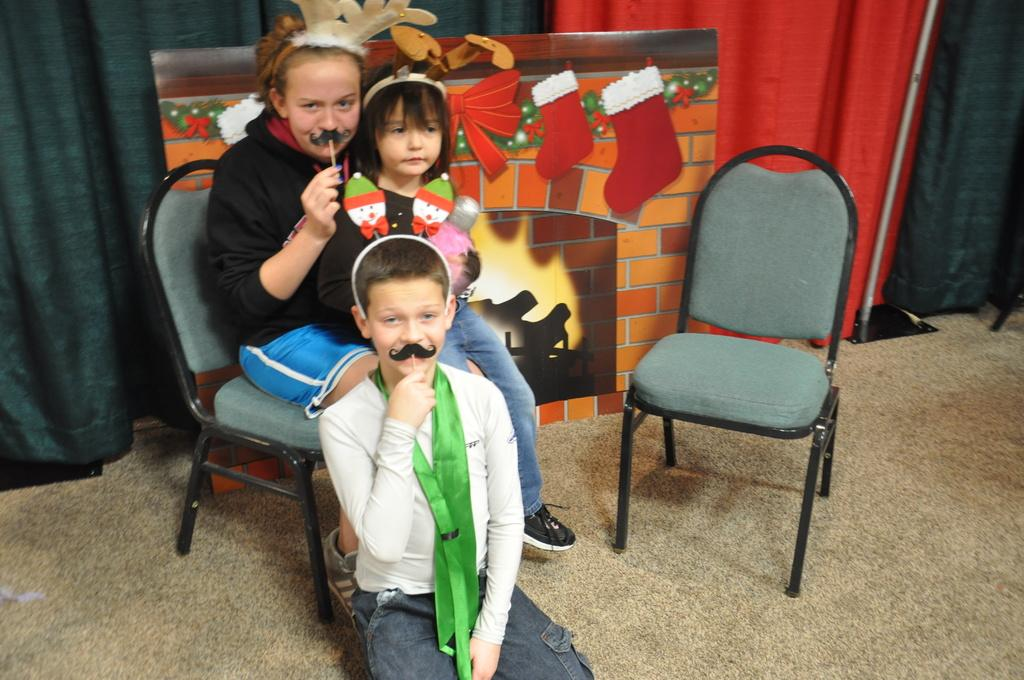Chair: (612, 143, 859, 597), (137, 157, 334, 622)
